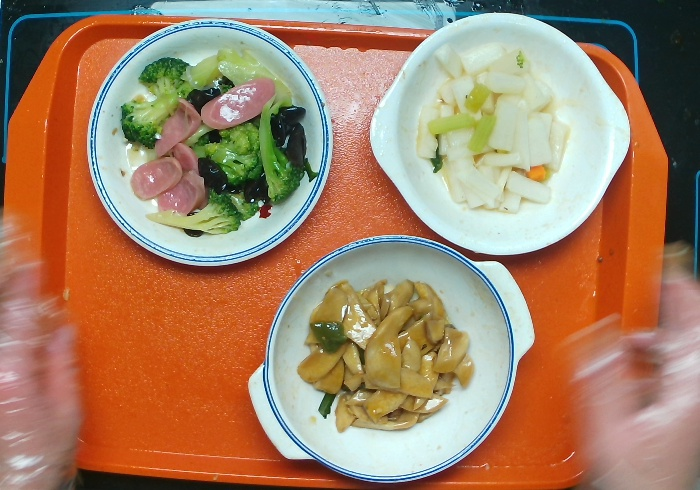HZYJPL-Dai_Er_Bai_Yuan_Wan: (366, 8, 631, 257)
HZYJPL-Lan_Bian_Dai_Er_Wan: (246, 232, 537, 487)
HZYJPL-Lan_Bian_Yuan_Die: (84, 17, 334, 268)
